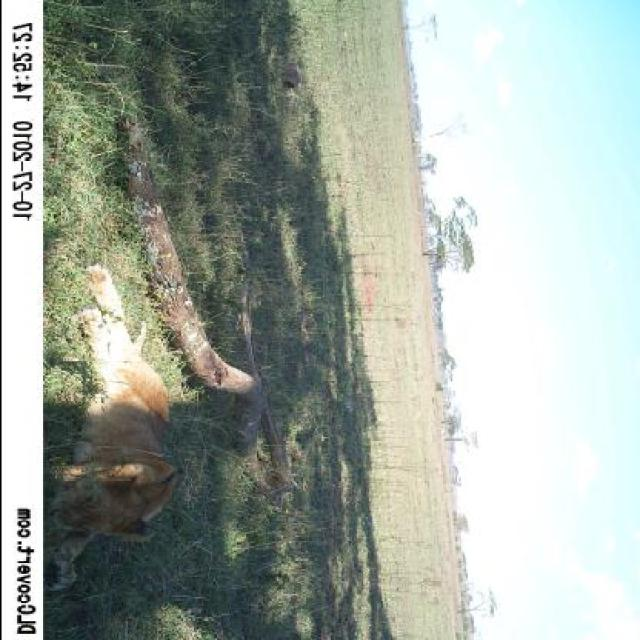Lion: (40, 211, 194, 603)
